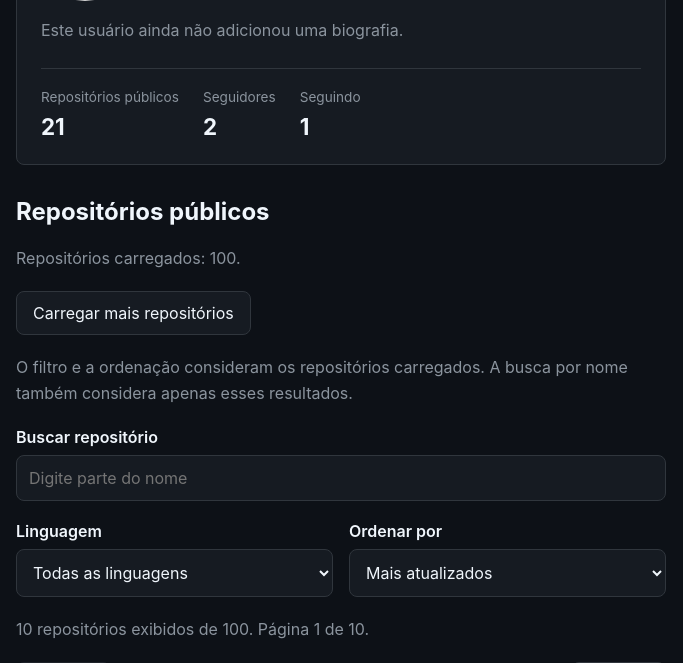
preserva a lista após erro e repete o mesmo lote antes de avançar
This screenshot has width=683, height=663.
(page scrolled)
Click the button "Carregar mais repositórios" at (133, 313), box left=16, top=291, right=251, bottom=335
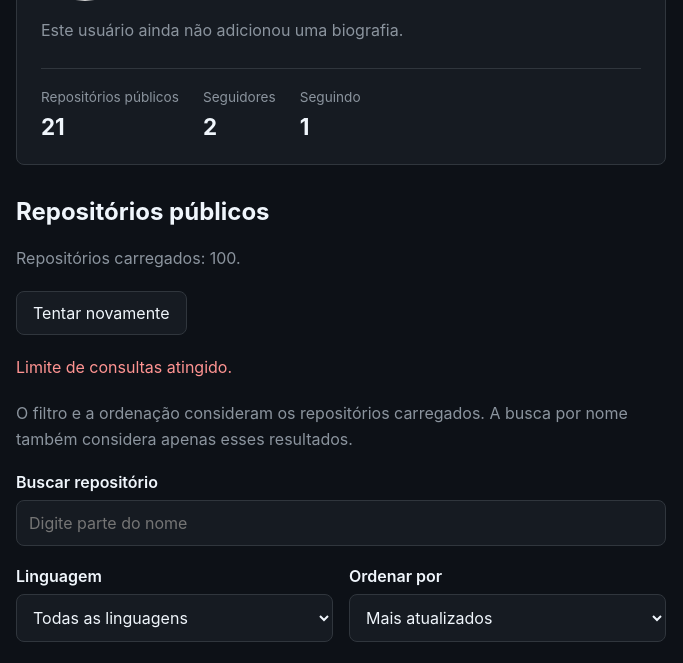
Expected: the text "Repositórios carregados: 100." is shown, left=16, top=248, right=241, bottom=268
Now the message "Limite de consultas atingido." is shown, box left=16, top=357, right=232, bottom=377
Click the button "Tentar novamente" at (101, 313), box left=16, top=291, right=186, bottom=335
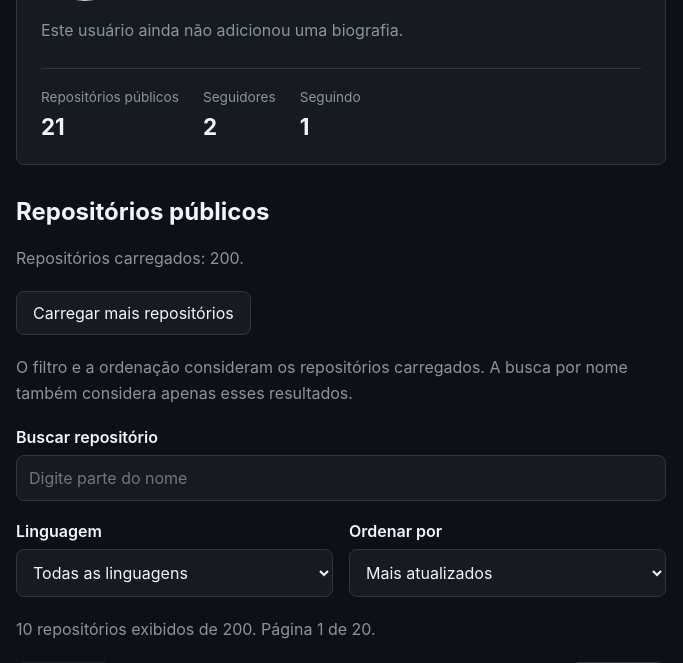
Now the text "Repositórios carregados: 200." is shown, box left=16, top=248, right=244, bottom=268
Now the message "Limite de consultas atingido." is gone
Click the button "Carregar mais repositórios" at (133, 313), box left=16, top=291, right=251, bottom=335
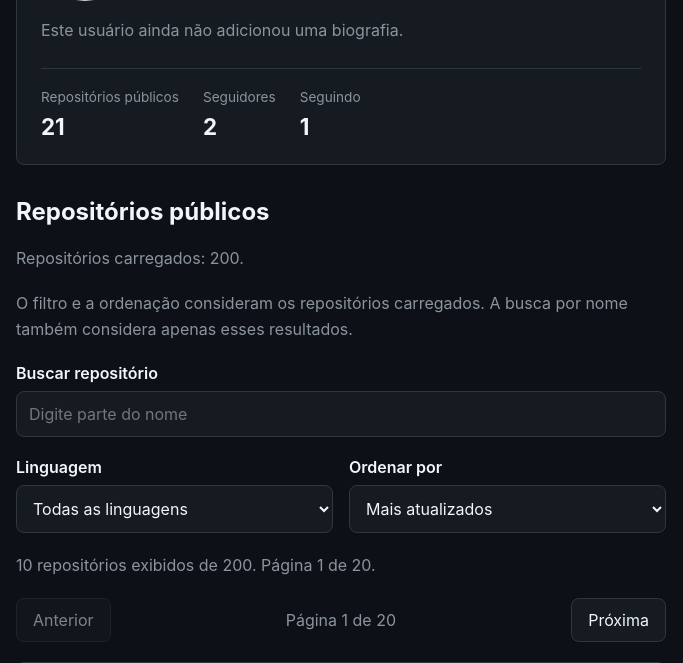
Now the button "Carregar mais repositórios" is gone
